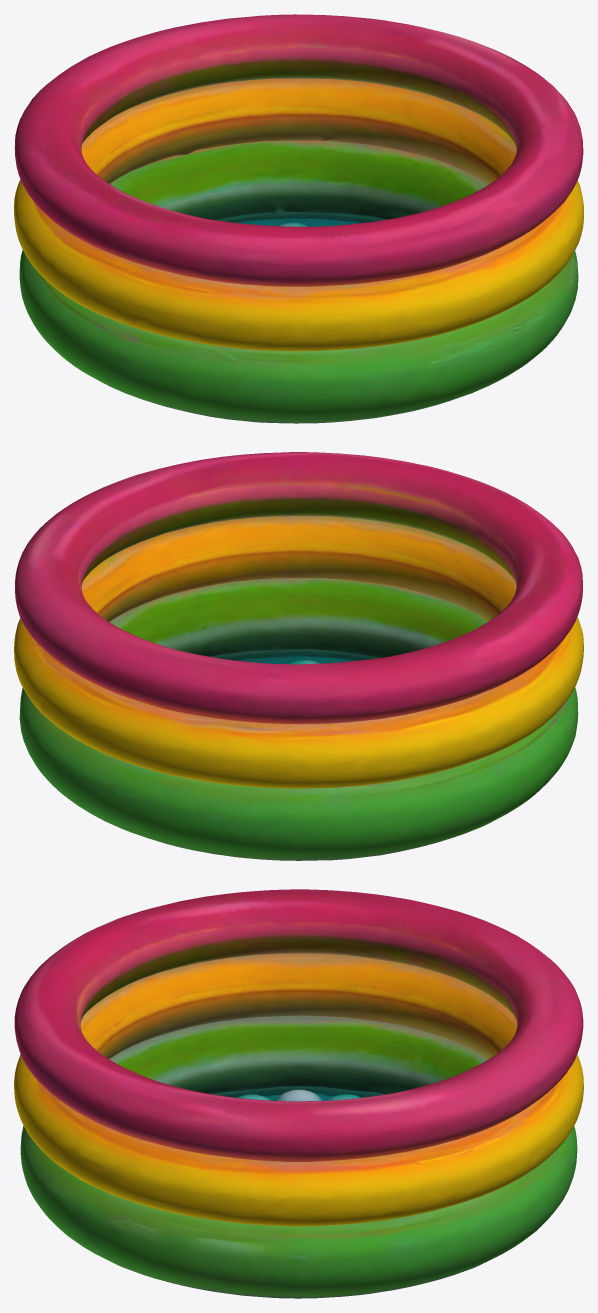
File: BAZIN GONFLABIL COPII 85Х85Х23СМ, 57Л, ОТ 1 ДО 3 ЛЕТ (1).glb
3 renders of one model, top to bottom at view 1: azimuth 30°, elevation 25°; view 2: azimuth 150°, elevation 25°; view 3: azimuth 270°, elevation 25°, orthographic.
Parts seen in each view (by area): view 1: tripo_node_84297726-b3ff-4816-933c-1229528eca47; view 2: tripo_node_84297726-b3ff-4816-933c-1229528eca47; view 3: tripo_node_84297726-b3ff-4816-933c-1229528eca47.
Part boxes in pixels (<box>): tripo_node_84297726-b3ff-4816-933c-1229528eca47: <box>14,14,583,423</box>; tripo_node_84297726-b3ff-4816-933c-1229528eca47: <box>14,452,583,860</box>; tripo_node_84297726-b3ff-4816-933c-1229528eca47: <box>14,889,583,1298</box>.
Size of the model in its own units: 1 by 0.4071 by 0.9999.
Materials: 1 (1 with a texture image).
